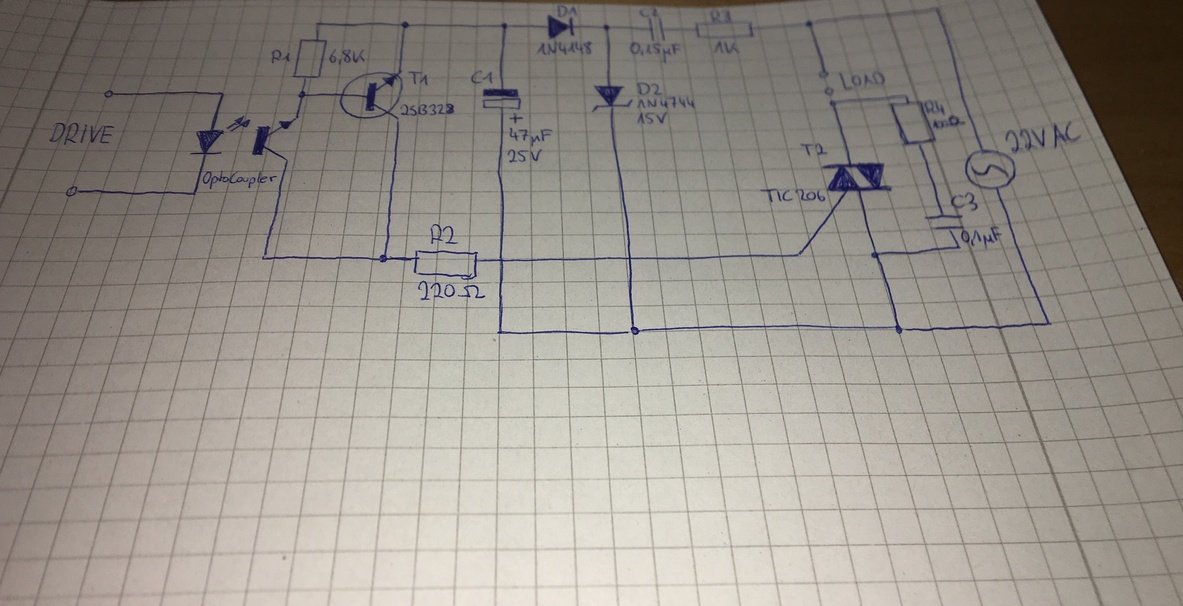capacitor.polarized: (481, 87, 525, 124)
capacitor.unpolarized: (922, 212, 967, 232), (646, 16, 668, 42)
crossover: (495, 254, 507, 265), (625, 253, 636, 263)
diode: (588, 83, 634, 114), (547, 14, 575, 40)
junction: (626, 324, 643, 337), (893, 323, 908, 336), (377, 253, 390, 265), (803, 19, 817, 29), (259, 251, 269, 264), (869, 250, 881, 260), (499, 21, 511, 31), (399, 20, 411, 30), (793, 250, 804, 260), (297, 89, 306, 100), (601, 23, 611, 32), (217, 89, 227, 98), (931, 5, 942, 13), (828, 99, 837, 108), (495, 328, 504, 337), (1043, 320, 1053, 328), (190, 189, 199, 197), (954, 244, 963, 251), (901, 92, 910, 99), (314, 20, 321, 28)
optocoupler: (189, 114, 300, 162)
resistor: (888, 100, 938, 147), (411, 248, 479, 281), (291, 36, 328, 80), (693, 20, 755, 41)
terminal: (822, 85, 835, 102), (64, 185, 80, 198), (817, 67, 830, 81), (103, 89, 117, 99)
text: (1004, 119, 1082, 154), (47, 120, 115, 146), (416, 279, 487, 302), (201, 169, 277, 190), (628, 41, 681, 65), (758, 186, 826, 204), (838, 69, 887, 92), (960, 225, 1003, 251), (534, 40, 593, 58), (508, 126, 554, 147), (399, 102, 457, 117), (636, 96, 697, 110), (428, 222, 459, 246), (949, 190, 980, 213), (328, 48, 369, 64), (506, 147, 544, 164), (932, 113, 966, 131), (711, 39, 741, 56), (635, 80, 663, 97), (799, 141, 828, 157), (406, 69, 430, 88), (636, 111, 668, 125), (469, 69, 495, 86), (708, 8, 733, 25), (923, 98, 945, 117), (555, 3, 579, 19), (269, 49, 292, 65), (636, 6, 662, 18)
transistor: (338, 70, 403, 124)
triac: (818, 160, 896, 198)
voltage.dc_ac: (963, 148, 1018, 191)
